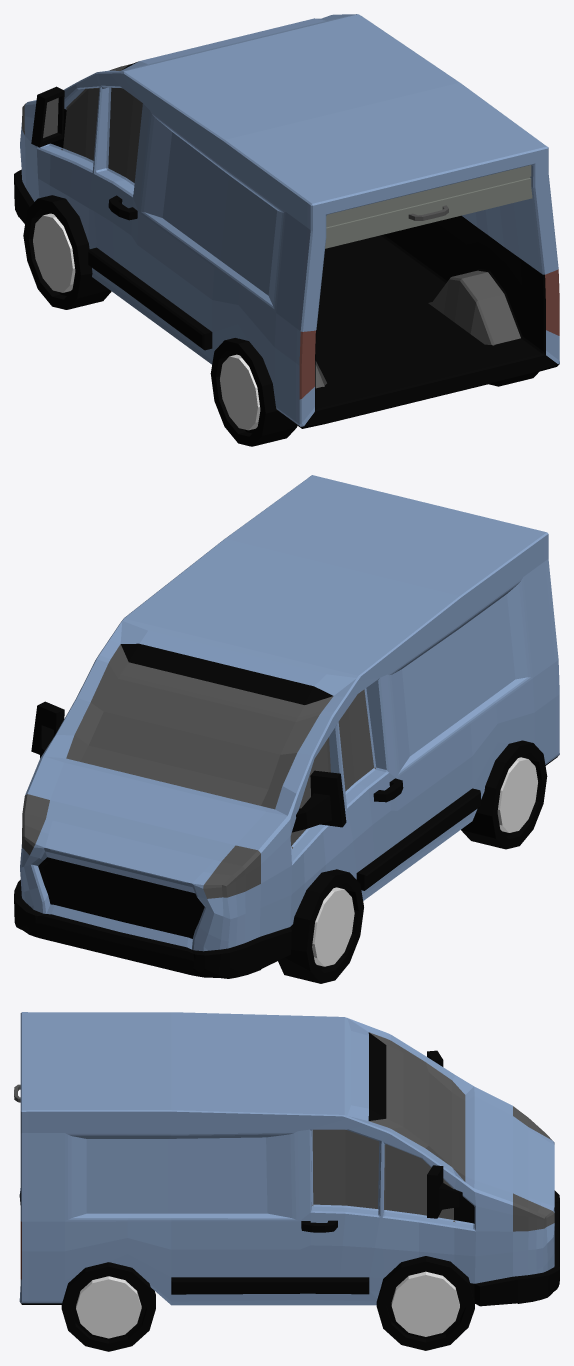
The model's file is Van.fbx.
The picture shows the model from 3 angles, top to bottom: view 1: azimuth 30°, elevation 25°; view 2: azimuth 150°, elevation 25°; view 3: azimuth 270°, elevation 25°; orthographic projection. The views are drawn at different scales.
Visible parts, largest first — view 1: Cube; view 2: Cube; view 3: Cube.
Part boxes in pixels (<box>): Cube: <box>14,14,559,446</box>; Cube: <box>14,475,559,983</box>; Cube: <box>14,1012,559,1351</box>.
Size of the model in its own units: 2397 by 1994 by 4253.
